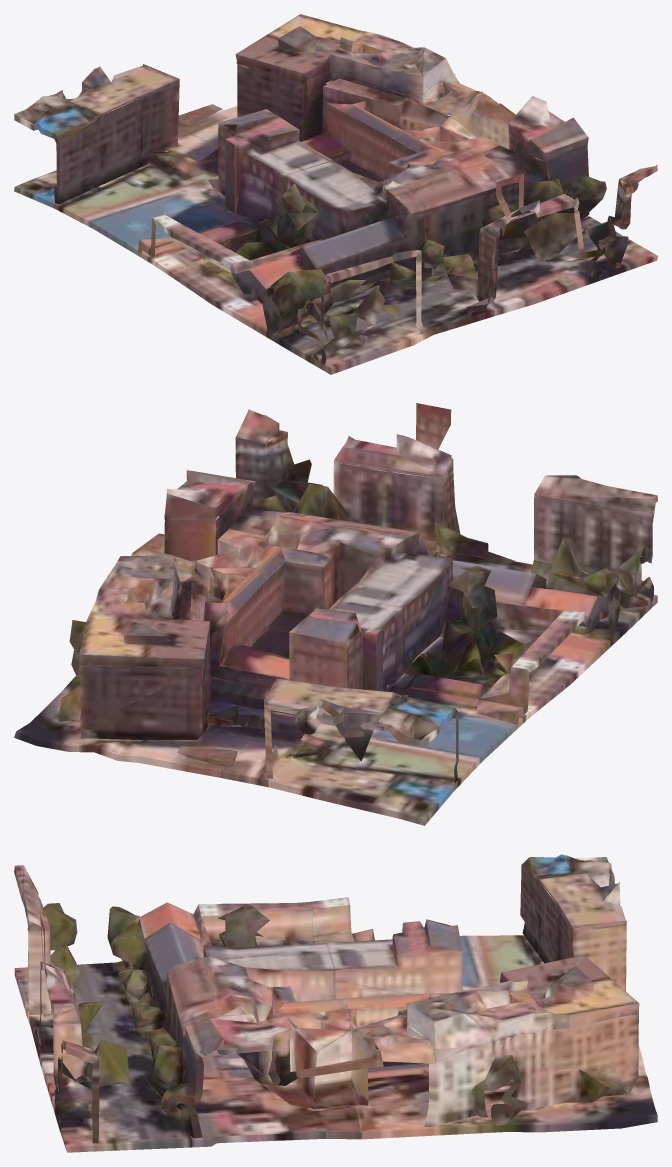
The picture shows the model from 3 angles, top to bottom: view 1: azimuth 30°, elevation 25°; view 2: azimuth 150°, elevation 25°; view 3: azimuth 270°, elevation 25°; orthographic projection. The views are drawn at different scales.
Visible parts, largest first — view 1: Mesh_0; view 2: Mesh_0; view 3: Mesh_0.
Boxes of the visible parts, x1,y1,x2,y2 form: Mesh_0: (14, 14, 657, 374); Mesh_0: (14, 403, 657, 825); Mesh_0: (14, 854, 657, 1152).
Size of the model in its own units: 133 by 44.69 by 165.
1 material, 1 textured.
